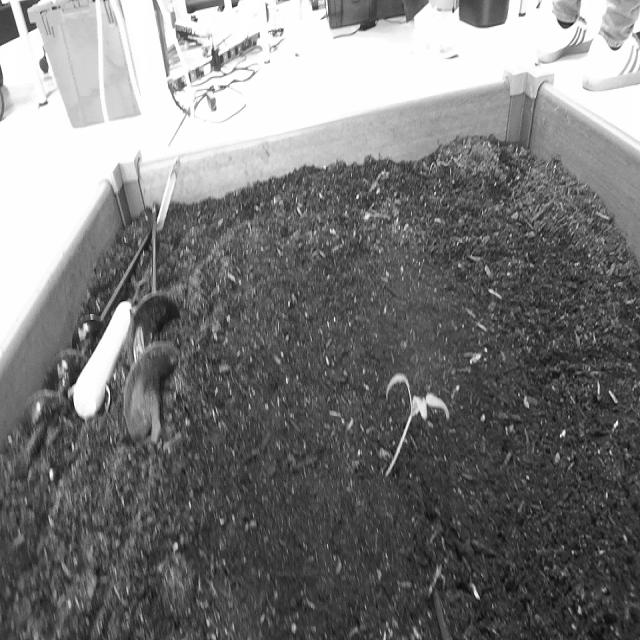Unhealthy: (379, 367, 452, 485)
